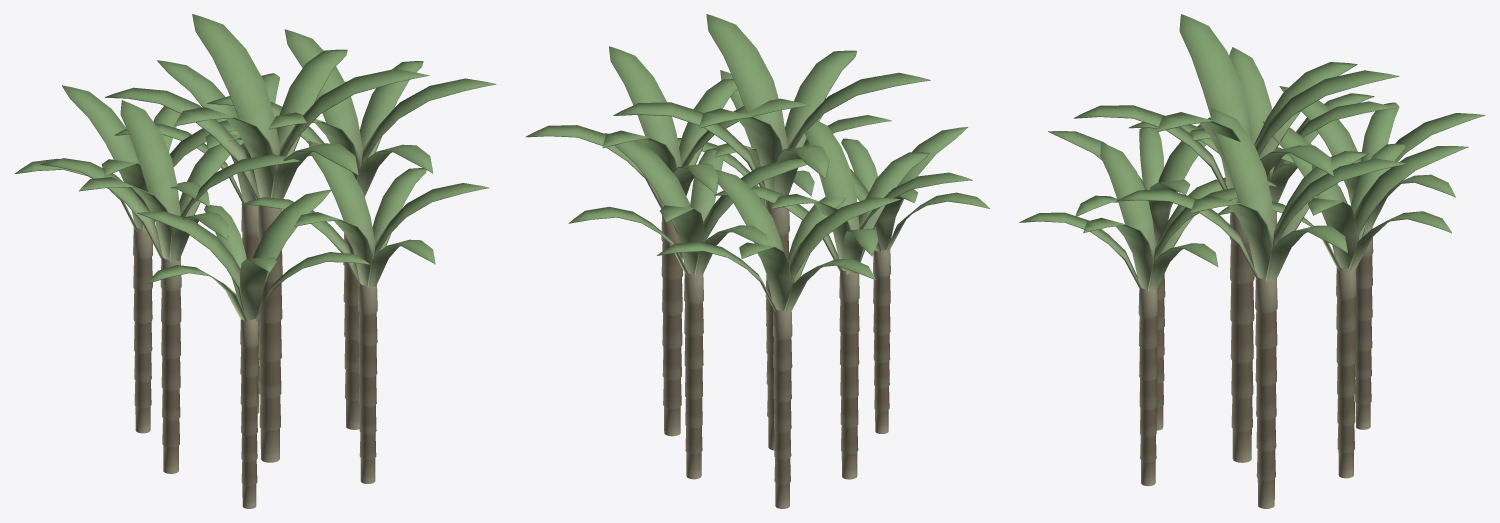
Rendered from Sugarcane_STAGE5.fbx.
3 renders of one model, left to right at view 1: azimuth 30°, elevation 25°; view 2: azimuth 150°, elevation 25°; view 3: azimuth 270°, elevation 25°, orthographic. The views are drawn at different scales.
Parts seen in each view (by area): view 1: Sugarcane_STAGE5; view 2: Sugarcane_STAGE5; view 3: Sugarcane_STAGE5.
Part boxes in pixels (x1,y1,x2,y2): Sugarcane_STAGE5: (15, 14, 496, 508); Sugarcane_STAGE5: (526, 14, 989, 508); Sugarcane_STAGE5: (1019, 14, 1485, 508).
Bounding box in the file's own units: 1.67 × 1.65 × 1.51.
